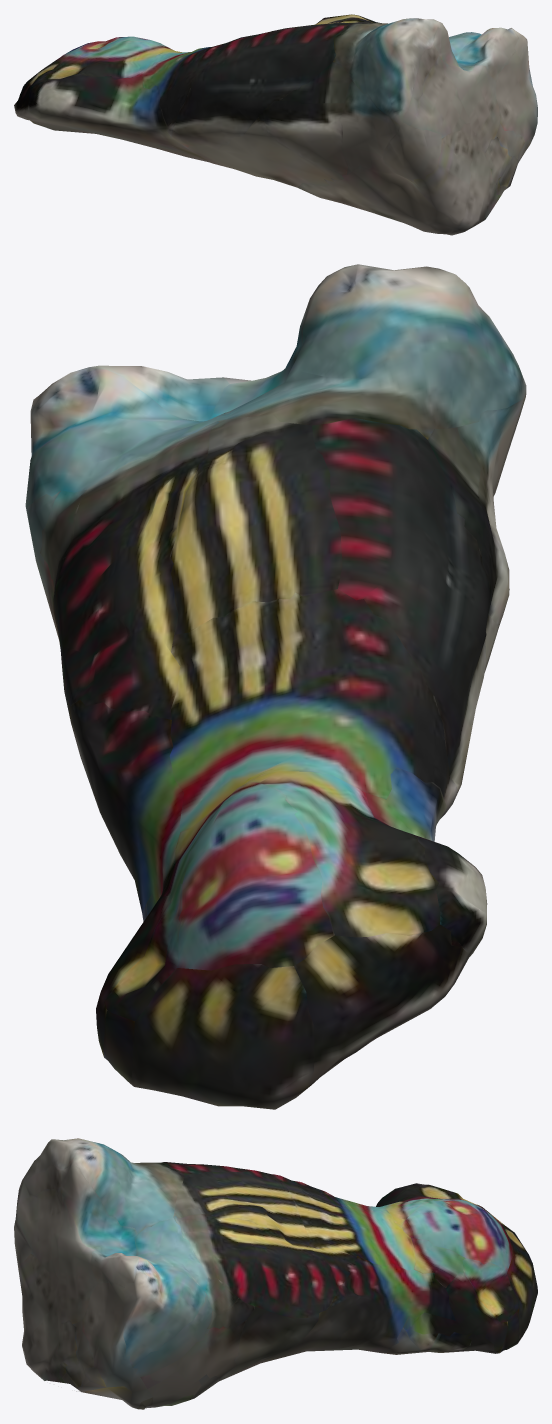
File: hall.glb
3 renders of one model, top to bottom at view 1: azimuth 30°, elevation 25°; view 2: azimuth 150°, elevation 25°; view 3: azimuth 270°, elevation 25°, orthographic. The views are drawn at different scales.
Bounding box in the file's own units: 0.622 × 0.3877 × 0.7562.
Materials: 1 (1 with a texture image).
